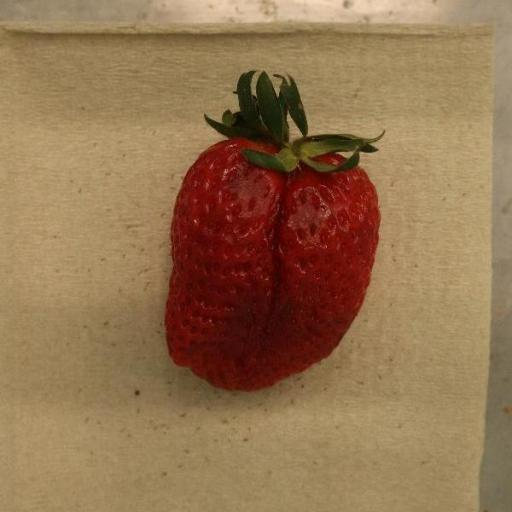Strawberry: (164, 75, 381, 392)
